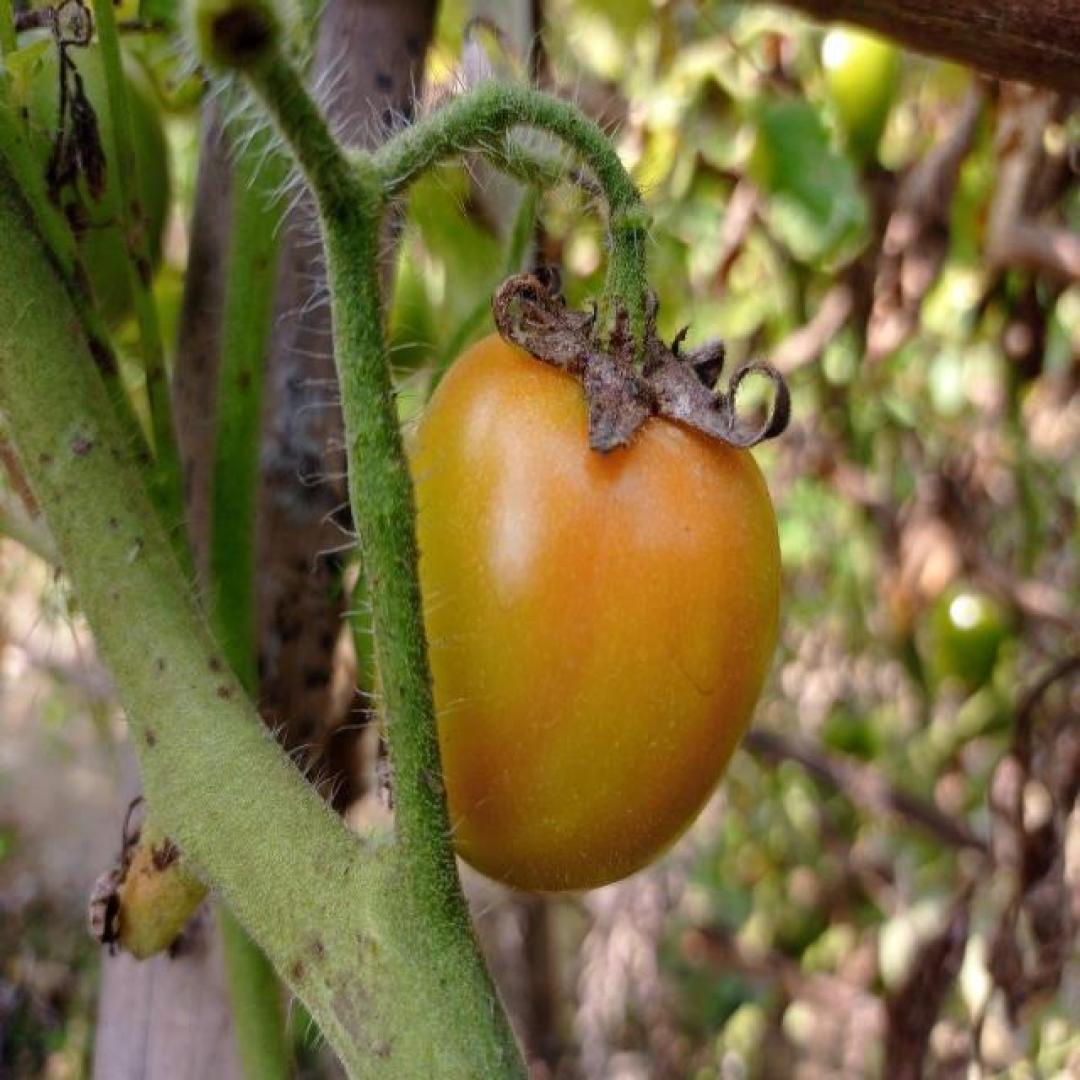setengah_matang: (373, 304, 783, 894)
